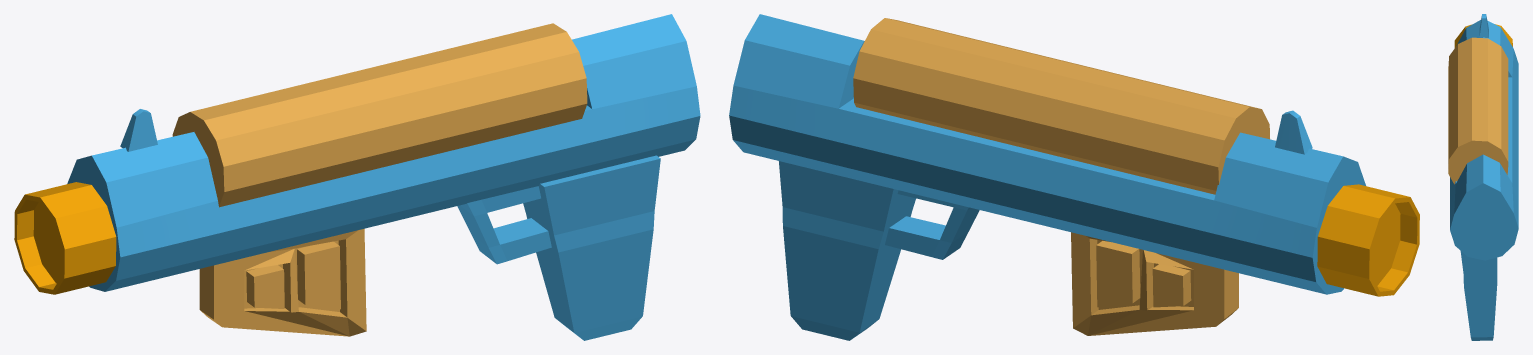
The model's file is Pistola de agua.fbx.
3 views of the same model, side by side, from view 1: azimuth 30°, elevation 25°; view 2: azimuth 150°, elevation 25°; view 3: azimuth 270°, elevation 25° (orthographic). The views are drawn at different scales.
Visible parts, largest first — view 1: Estructura_PA, Almacen, Empuñadura, Cartucho, Pico, Mira_Pa; view 2: Estructura_PA, Almacen, Empuñadura, Cartucho, Pico, Mira_Pa; view 3: Estructura_PA, Almacen, Empuñadura, Mira_Pa, Pico.
Part boxes in pixels (box(x1,y1,x2,y2)): Estructura_PA: box(67, 14, 700, 291); Almacen: box(172, 23, 587, 207); Empuñadura: box(457, 155, 660, 340); Cartucho: box(199, 228, 366, 336); Pico: box(14, 182, 116, 294); Mira_Pa: box(120, 109, 157, 151); Estructura_PA: box(729, 14, 1365, 294); Almacen: box(853, 18, 1269, 194); Empuñadura: box(779, 161, 979, 340); Cartucho: box(1071, 232, 1238, 335); Pico: box(1317, 184, 1419, 296); Mira_Pa: box(1275, 110, 1312, 154); Estructura_PA: box(1450, 20, 1518, 260); Almacen: box(1448, 37, 1508, 184); Empuñadura: box(1460, 251, 1497, 340); Mira_Pa: box(1479, 14, 1488, 37); Pico: box(1454, 24, 1512, 47).
Bounding box in the file's own units: 2.55 × 1.27 × 0.4234.
